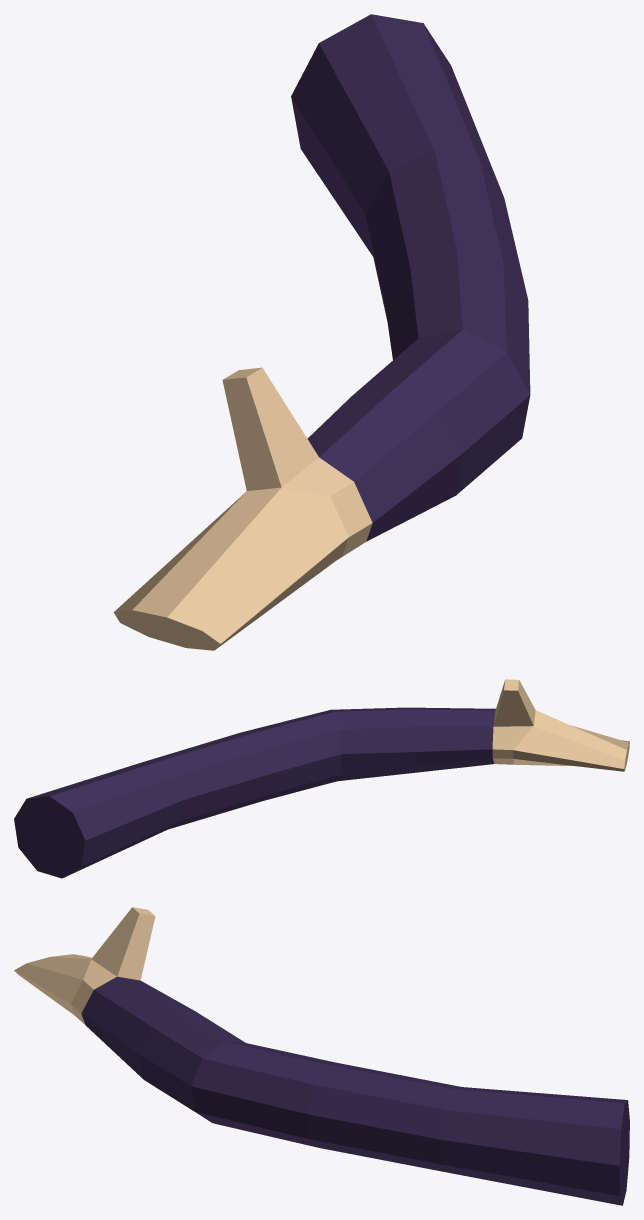
The model's file is Player_hand.glb.
3 views of the same model, one above another, from view 1: azimuth 30°, elevation 25°; view 2: azimuth 150°, elevation 25°; view 3: azimuth 270°, elevation 25° (orthographic). The views are drawn at different scales.
Visible parts, largest first — view 1: Cylinder; view 2: Cylinder; view 3: Cylinder.
Boxes of the visible parts, <box> form: Cylinder: <box>113,14,530,650</box>; Cylinder: <box>14,679,629,878</box>; Cylinder: <box>14,907,629,1205</box>.
Bounding box in the file's own units: 0.6512 × 0.177 × 0.7376.
